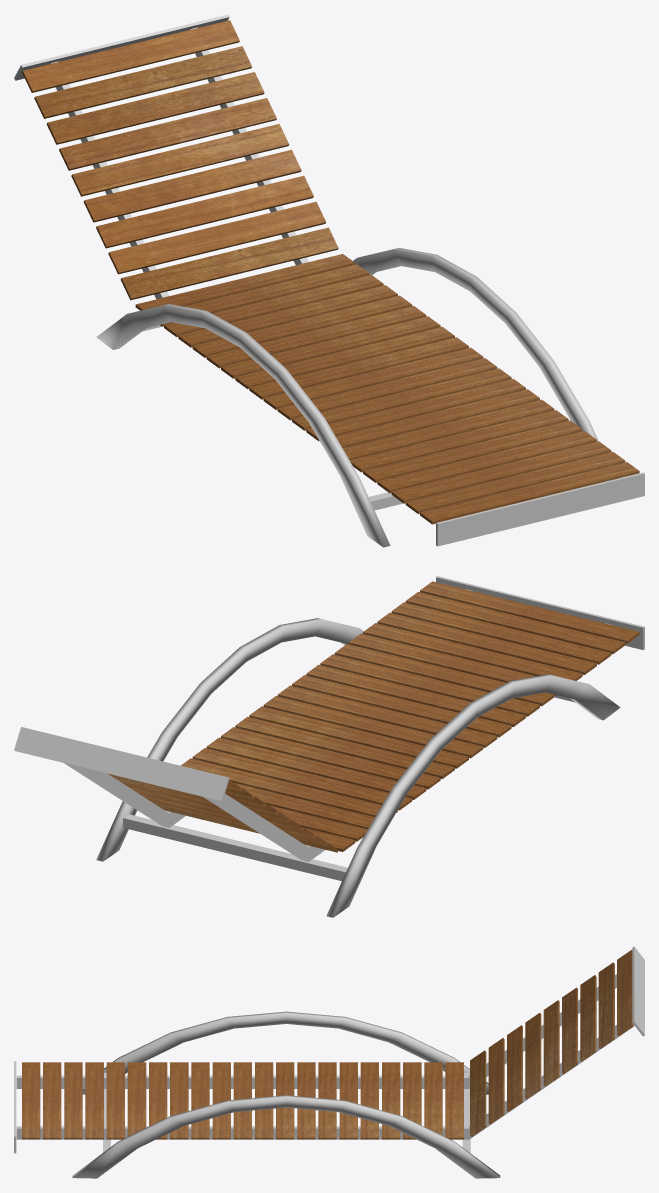
File: sunshinechair.glb
The picture shows the model from 3 angles, top to bottom: view 1: azimuth 30°, elevation 25°; view 2: azimuth 150°, elevation 25°; view 3: azimuth 270°, elevation 25°; orthographic projection. The views are drawn at different scales.
Visible parts, largest first — view 1: Chair_Circle; view 2: Chair_Circle; view 3: Chair_Circle.
Part boxes in pixels (box(x1,y1,x2,y2)): Chair_Circle: box(14, 14, 644, 547); Chair_Circle: box(14, 576, 644, 917); Chair_Circle: box(14, 946, 644, 1178).
Bounding box in the file's own units: 1.21 × 0.995 × 3.75.
Materials: 2 (1 with a texture image).
